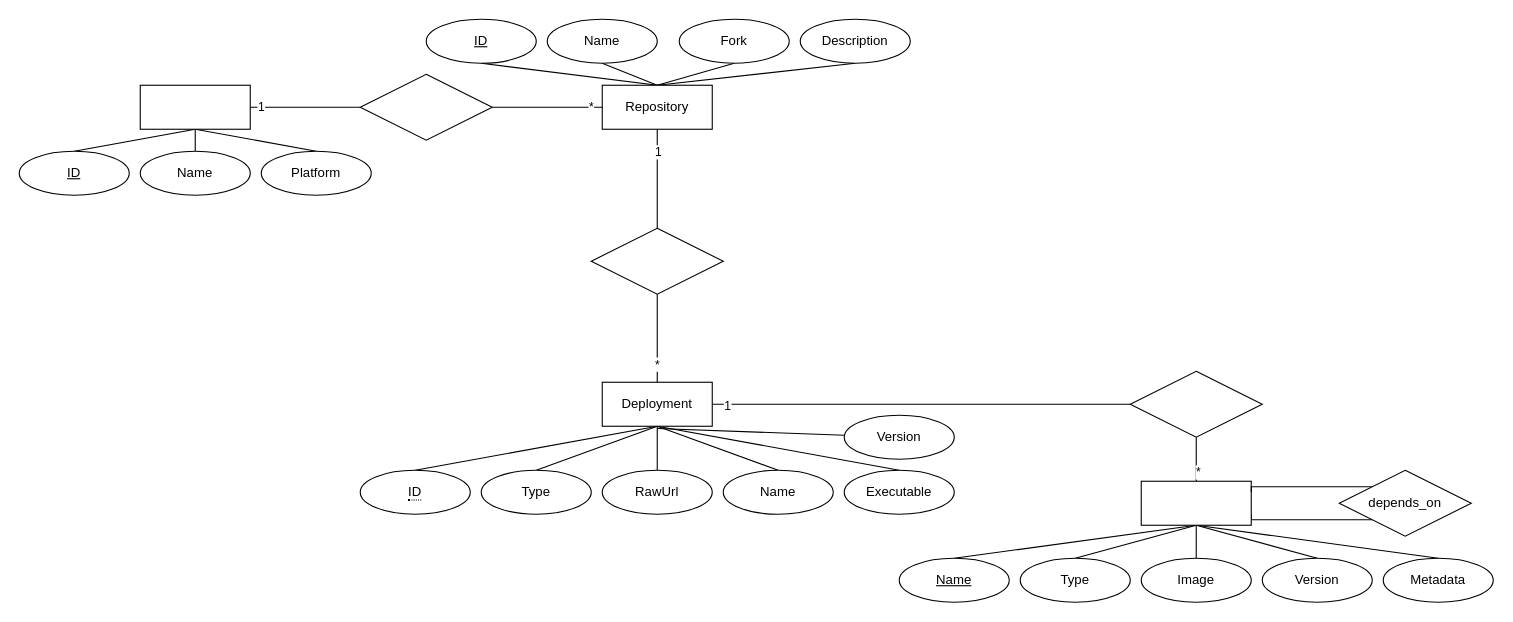
This 1513x622 diagram has some shape labels left out. The shapes that lost their labels are listed below. From the top down, each one's centre as x and y in pixels, then its label:
At point 194,106: "User".
At point 425,106: "owns".
At point 656,260: "contains".
At point 1195,403: "includes".
At point 1195,502: "Service".
